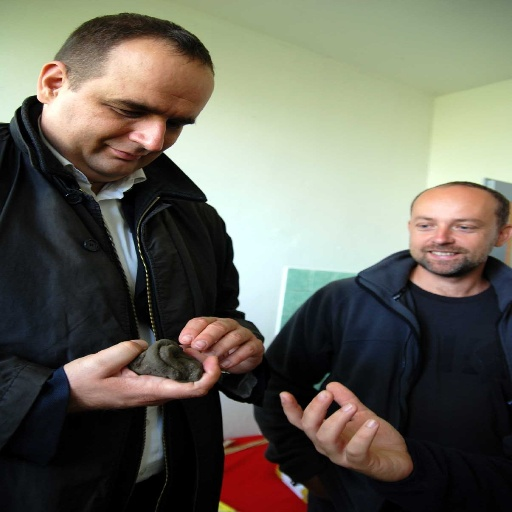hand: (271, 382, 428, 475), (62, 337, 222, 412), (176, 313, 266, 375)
